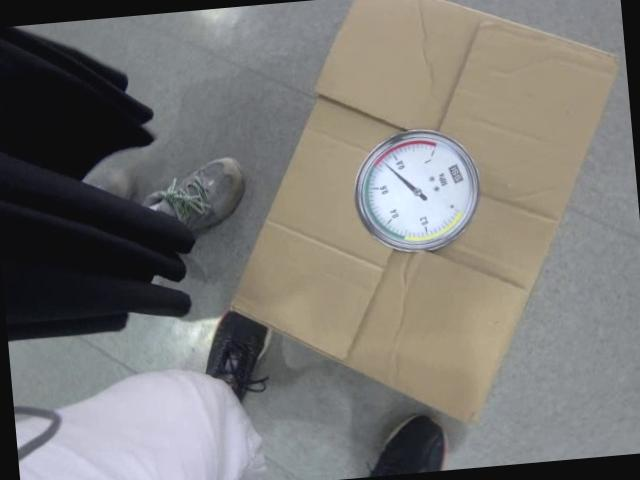Dashboard: (346, 124, 486, 260)
ssi: (447, 162, 462, 184)
